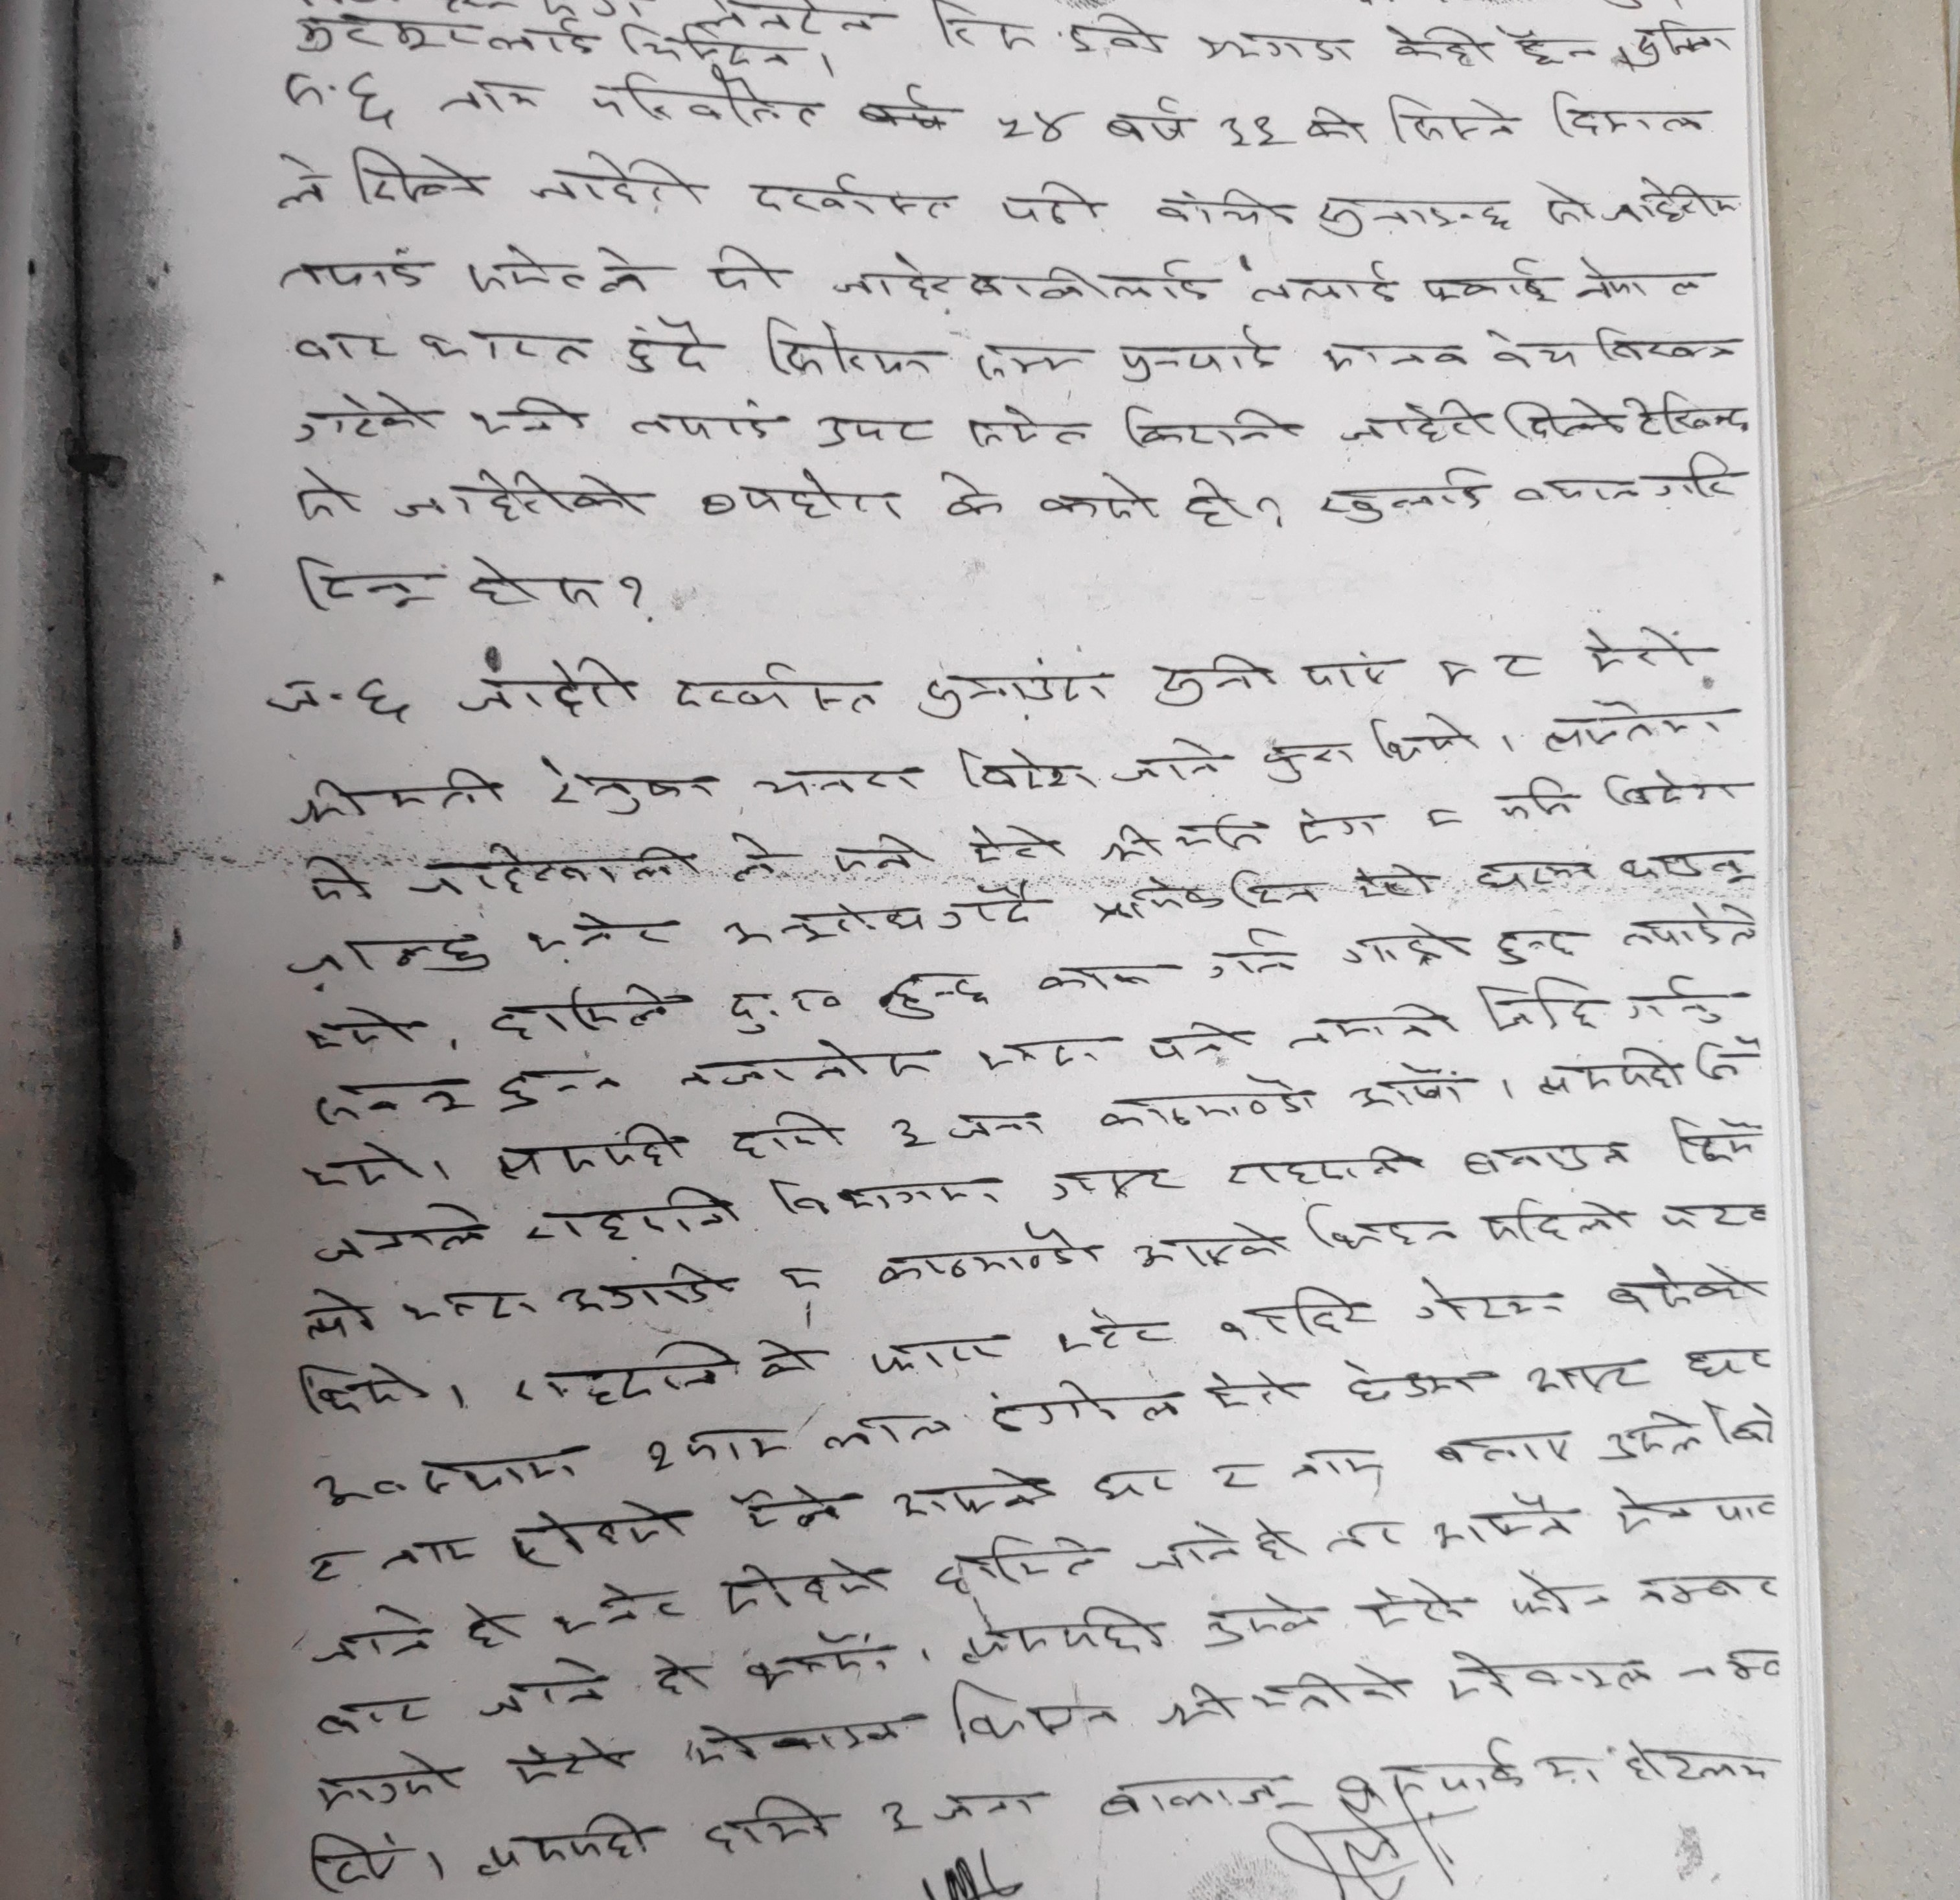text: (826, 250, 1221, 310), (402, 840, 714, 901), (283, 7, 604, 66), (506, 1335, 745, 1414), (1132, 1666, 1414, 1730), (390, 465, 653, 528), (471, 1804, 660, 1888), (583, 68, 826, 131), (667, 654, 889, 721), (870, 1223, 1097, 1288), (448, 644, 648, 717), (506, 1494, 697, 1569), (917, 654, 1116, 726), (957, 1604, 1173, 1671), (675, 1037, 938, 1092), (282, 765, 507, 828), (945, 1676, 1125, 1753), (982, 1370, 1185, 1438), (681, 1709, 905, 1771), (518, 1183, 745, 1242), (462, 233, 654, 303), (1533, 693, 1732, 759), (740, 166, 955, 227), (490, 1116, 693, 1181), (756, 310, 933, 383), (707, 1555, 907, 1620), (717, 892, 933, 952), (695, 467, 903, 528), (527, 752, 717, 819), (765, 1172, 1005, 1225), (1382, 1743, 1607, 1799), (1090, 1078, 1319, 1132), (287, 927, 502, 985), (523, 149, 705, 217), (308, 1204, 502, 1267), (1524, 173, 1741, 229), (1437, 1646, 1661, 1701), (486, 981, 679, 1044), (1605, 1477, 1778, 1545), (744, 1629, 908, 1701), (697, 1788, 842, 1869), (1314, 458, 1494, 523), (929, 1531, 1102, 1597), (1094, 1771, 1286, 1830), (1115, 317, 1270, 388), (1424, 1487, 1578, 1559), (553, 1260, 733, 1321), (1220, 1141, 1430, 1193), (1116, 394, 1305, 451), (1309, 187, 1519, 238), (1547, 82, 1712, 147), (294, 548, 434, 623), (1617, 1734, 1774, 1800), (306, 1753, 467, 1818), (1279, 999, 1461, 1055), (408, 1443, 595, 1498), (345, 142, 488, 210), (415, 322, 593, 376), (521, 905, 684, 964), (308, 1072, 471, 1132), (474, 1655, 619, 1722), (1482, 1184, 1634, 1247), (1333, 394, 1494, 453), (1304, 1195, 1465, 1254), (290, 1354, 434, 1421), (882, 1466, 1057, 1520), (1398, 1270, 1566, 1326), (285, 383, 437, 444), (1596, 1261, 1767, 1316), (292, 997, 436, 1062), (1568, 247, 1715, 310), (462, 549, 604, 614), (1596, 759, 1759, 815), (1034, 458, 1164, 528), (955, 735, 1099, 798), (310, 1601, 436, 1673), (1081, 877, 1228, 938), (1613, 903, 1778, 957), (1591, 317, 1745, 374), (1143, 647, 1283, 710), (299, 1823, 411, 1900), (1381, 86, 1517, 149), (619, 23, 795, 72), (269, 243, 432, 296), (1130, 1214, 1288, 1268), (548, 1582, 695, 1639), (1244, 257, 1398, 311), (1195, 1590, 1323, 1655), (810, 1407, 962, 1461), (1529, 1044, 1685, 1097), (278, 63, 401, 129), (751, 758, 917, 807), (492, 1057, 628, 1116), (1153, 177, 1293, 234), (1333, 1352, 1487, 1405), (1479, 974, 1607, 1037), (1459, 1135, 1643, 1179), (499, 1736, 632, 1795), (628, 395, 782, 444), (1573, 618, 1699, 677), (299, 1141, 432, 1197), (315, 1692, 439, 1751), (1346, 1057, 1477, 1113), (710, 981, 845, 1036), (1411, 257, 1557, 306), (1043, 1156, 1185, 1207), (1339, 919, 1470, 973), (1626, 380, 1745, 439), (1108, 733, 1230, 791), (733, 1480, 856, 1538), (1367, 707, 1479, 770), (1631, 1566, 1792, 1610), (1197, 24, 1356, 68), (954, 404, 1095, 453), (1132, 1519, 1241, 1582), (992, 175, 1109, 233), (1467, 847, 1598, 898), (924, 3, 1046, 58), (1498, 392, 1624, 444), (875, 966, 992, 1022), (1624, 969, 1731, 1030), (1647, 444, 1741, 513), (1314, 334, 1467, 376), (863, 1333, 1008, 1377), (1626, 12, 1732, 72), (961, 812, 1067, 871), (726, 1107, 850, 1158), (294, 1284, 392, 1347), (1265, 1284, 1376, 1340), (968, 338, 1097, 385), (1505, 1564, 1610, 1622), (401, 1286, 539, 1330), (1605, 1410, 1706, 1470), (459, 388, 581, 437), (1048, 1309, 1171, 1358), (970, 1030, 1101, 1076), (1202, 1359, 1305, 1417), (1521, 1354, 1654, 1398), (262, 145, 338, 222), (1386, 17, 1496, 70), (287, 317, 395, 369), (938, 884, 1050, 934), (709, 238, 796, 303), (1031, 952, 1155, 997), (618, 317, 712, 376), (1356, 1578, 1463, 1631), (1104, 87, 1195, 149), (1206, 926, 1302, 983), (817, 409, 935, 457), (1430, 1429, 1580, 1466), (1230, 859, 1323, 919), (830, 828, 935, 880), (926, 1786, 1046, 1832), (1664, 1337, 1780, 1384), (1507, 471, 1642, 511), (1484, 324, 1591, 374), (437, 75, 551, 122), (1141, 1018, 1255, 1065), (303, 1464, 408, 1515), (1486, 770, 1578, 826), (296, 850, 376, 913), (1062, 9, 1164, 58), (677, 1422, 795, 1464), (1167, 807, 1267, 856), (924, 467, 1003, 528), (1260, 738, 1358, 787), (987, 101, 1078, 154), (290, 460, 366, 523), (455, 1594, 530, 1657), (1302, 646, 1395, 696), (1341, 857, 1442, 903), (378, 1533, 480, 1578), (948, 1102, 1045, 1149), (1505, 24, 1603, 70), (1185, 472, 1256, 534), (1279, 1445, 1391, 1484), (1094, 1461, 1174, 1513), (640, 1648, 712, 1706), (719, 822, 782, 887), (1293, 800, 1377, 847), (1484, 926, 1577, 966), (751, 1333, 819, 1387), (1323, 1512, 1407, 1555), (1248, 1513, 1307, 1575), (1291, 101, 1368, 149), (1208, 1454, 1265, 1510), (1097, 821, 1162, 870), (1220, 105, 1286, 152), (863, 1795, 912, 1846), (1486, 644, 1545, 682), (885, 1113, 935, 1158), (1417, 803, 1477, 840), (296, 1545, 350, 1585), (773, 1260, 833, 1295), (640, 1433, 679, 1482), (1211, 1312, 1249, 1349)
